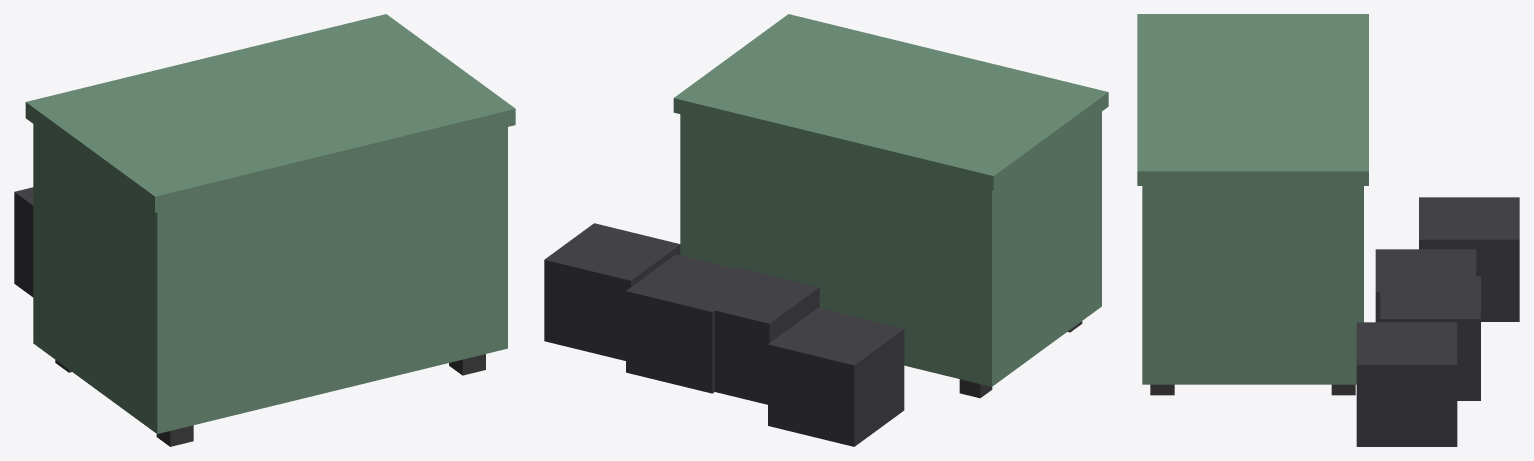
The model's file is SM_Contenedor_Basura.fbx.
3 views of the same model, side by side, from view 1: azimuth 30°, elevation 25°; view 2: azimuth 150°, elevation 25°; view 3: azimuth 270°, elevation 25° (orthographic). The views are drawn at different scales.
Visible parts, largest first — view 1: SM_Contenedor_Basura; view 2: SM_Contenedor_Basura; view 3: SM_Contenedor_Basura.
Boxes of the visible parts, <box> form: SM_Contenedor_Basura: <box>14,14,515,446</box>; SM_Contenedor_Basura: <box>544,14,1108,446</box>; SM_Contenedor_Basura: <box>1137,14,1519,446</box>.
Size of the model in its own units: 2.34 by 1.28 by 1.9.
